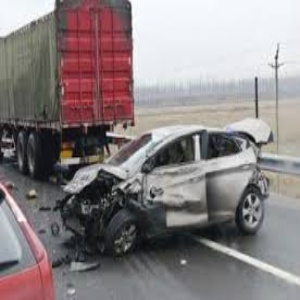door: (142, 170, 224, 230)
